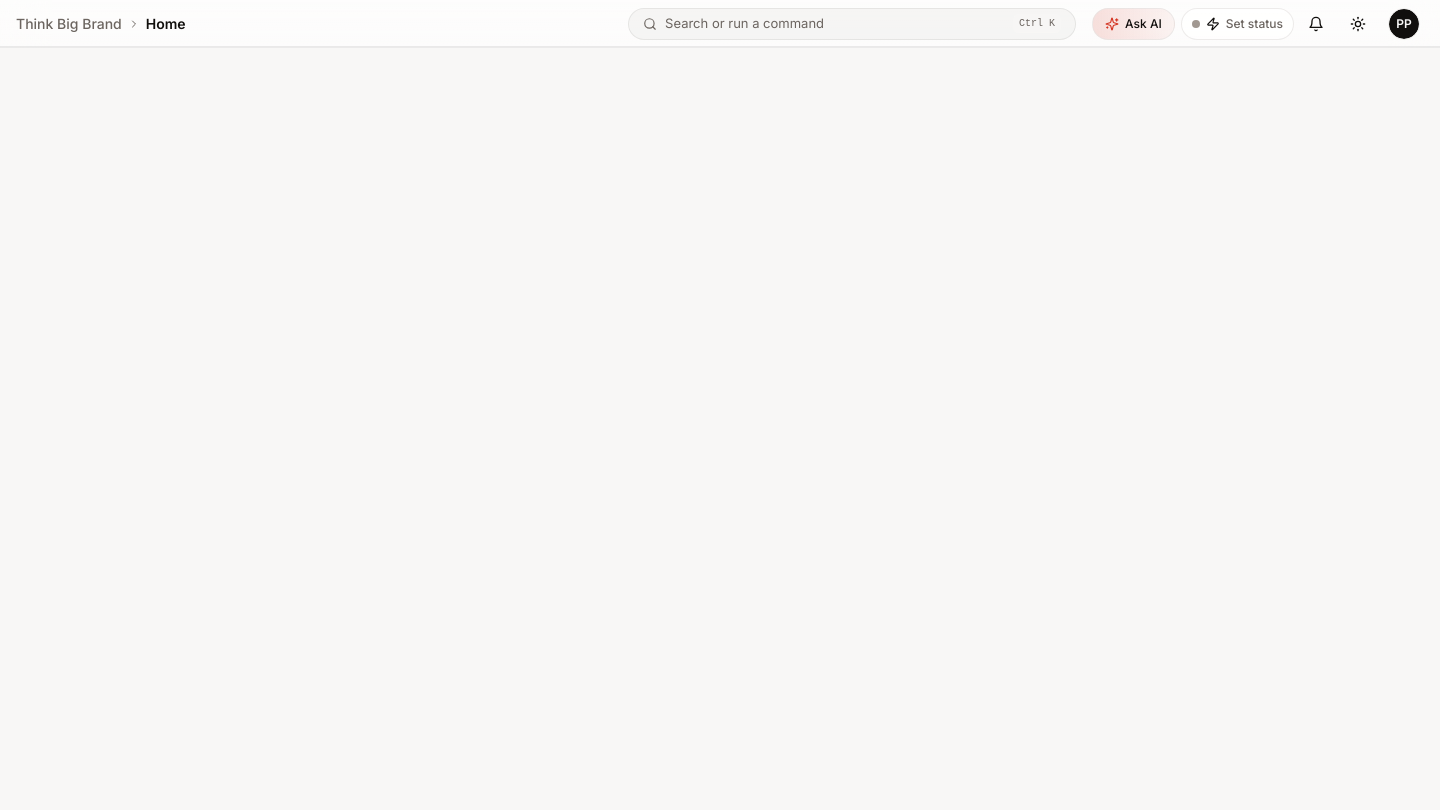
Test case: AppHeader › notifications are the real centre: an honest empty state, never fake entries
Click the button named "Notifications": (1316, 24) left=1300, top=8, right=1332, bottom=40
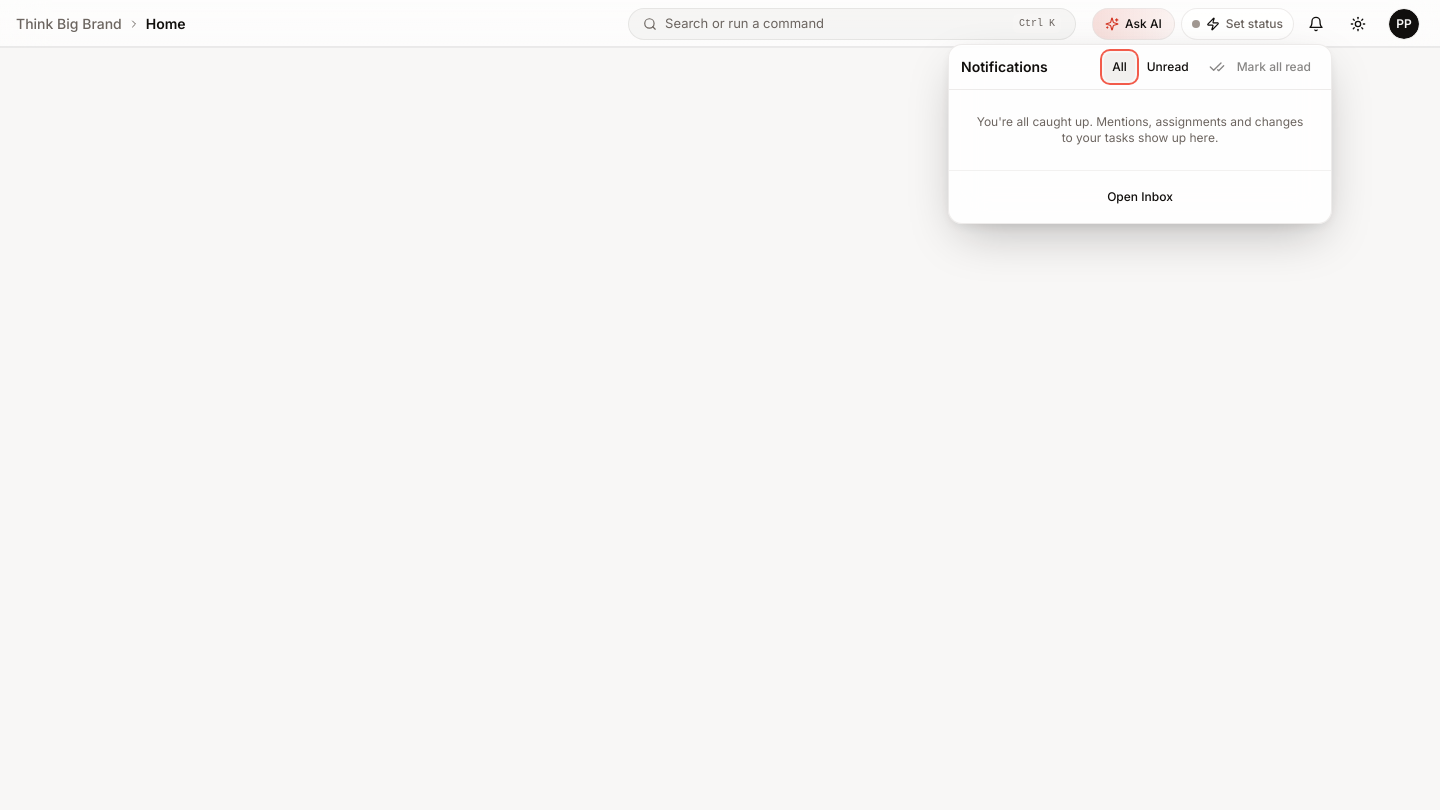
Check: the text "all caught up" is shown, box left=977, top=114, right=1303, bottom=145
